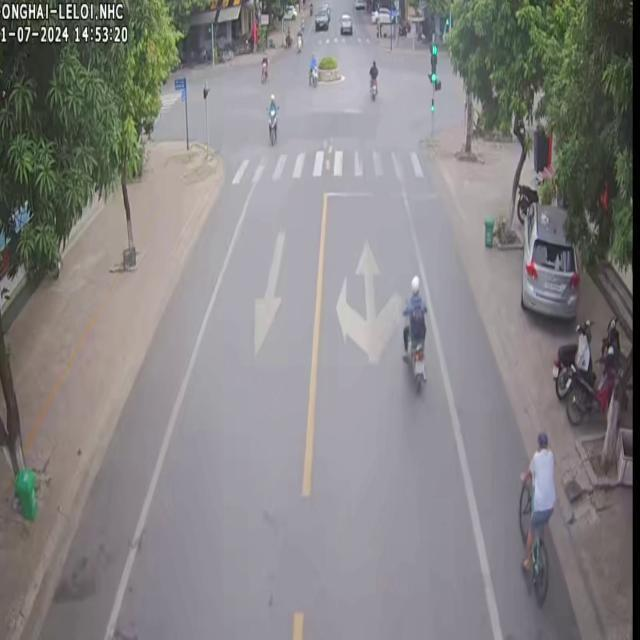car: (519, 200, 578, 318), (313, 2, 328, 28), (338, 11, 352, 34)
green_light: (431, 34, 437, 86)
motobike: (550, 318, 590, 398), (400, 274, 426, 389), (266, 91, 277, 142), (368, 58, 377, 98), (307, 51, 317, 85), (259, 51, 267, 82)
stop_line: (325, 184, 402, 200)
